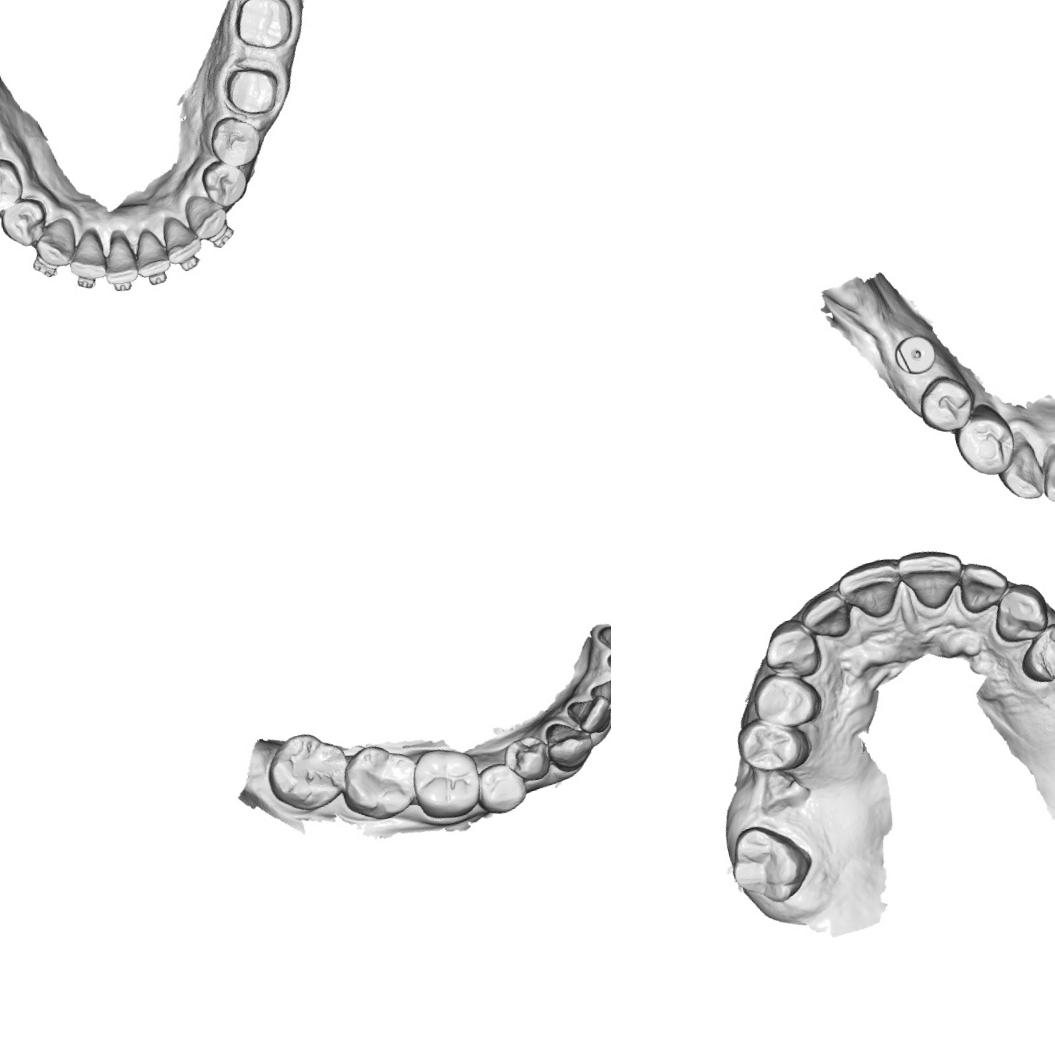canine: (984, 576, 1054, 649), (757, 614, 825, 684), (538, 712, 601, 779), (992, 439, 1048, 507), (29, 215, 81, 272), (182, 188, 232, 243)
crown: (216, 55, 288, 126), (224, 0, 301, 60)
implant: (887, 322, 946, 382)
incisor: (892, 548, 972, 617), (832, 556, 909, 626), (952, 554, 1016, 618), (793, 586, 854, 648), (61, 228, 109, 284), (159, 210, 205, 266), (98, 232, 140, 288), (128, 225, 171, 279), (563, 691, 611, 739), (586, 668, 611, 717), (1036, 448, 1055, 511), (592, 619, 611, 666)
molar: (257, 722, 359, 820), (721, 814, 820, 913), (332, 734, 429, 827), (405, 736, 490, 826)
premolar: (730, 707, 815, 782), (745, 662, 826, 736), (948, 403, 1022, 483), (911, 368, 984, 441), (204, 109, 266, 171), (472, 758, 532, 819), (497, 731, 555, 788), (1012, 616, 1055, 692), (198, 154, 252, 212), (0, 194, 52, 251), (0, 154, 28, 218)
